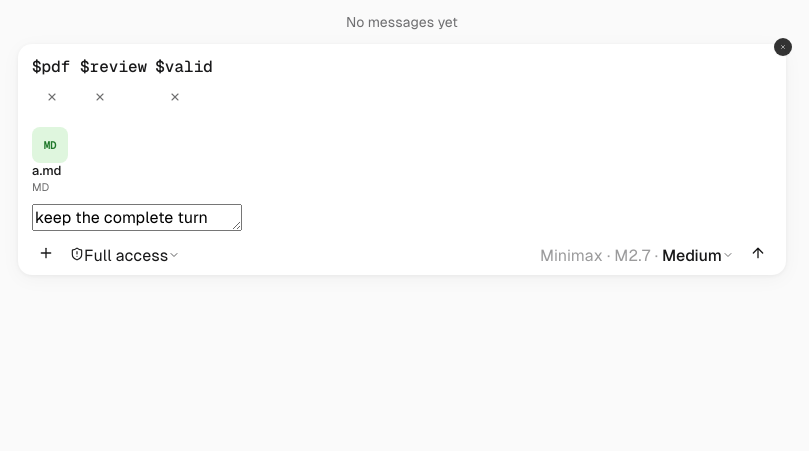
Test case: ChatView › repairs canonical Skill preconditions without clearing or rebinding the turn
Expected: the button "Minimax · M2.7 · Medium" is shown, [534,244,740,267]
Click the button named "send" at (758, 256), box [744,244,772,267]
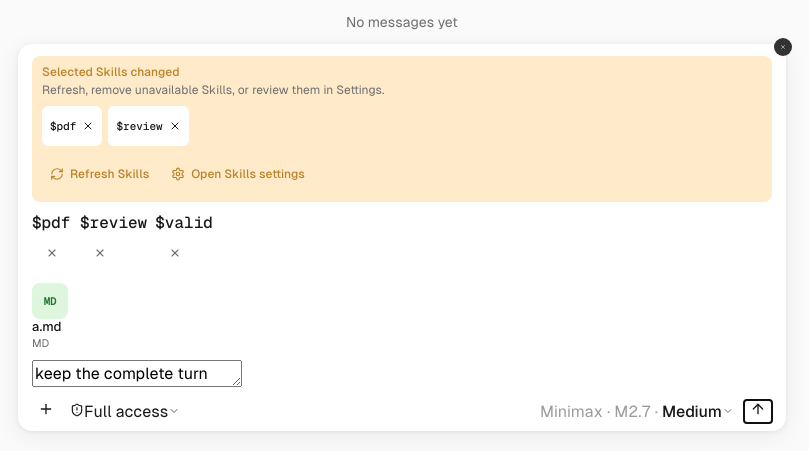
Expected: the message shows "Selected Skills changed", [42,65,180,79]
Click the button "Open Skills settings" at (238, 174), box [163,154,313,194]
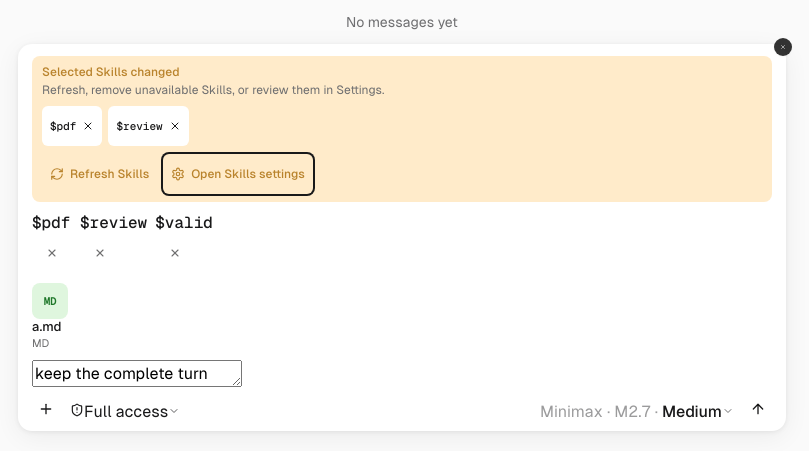
Click the button with aria-label "Remove unavailable Skill pdf" at (72, 126), box [42,106,102,146]
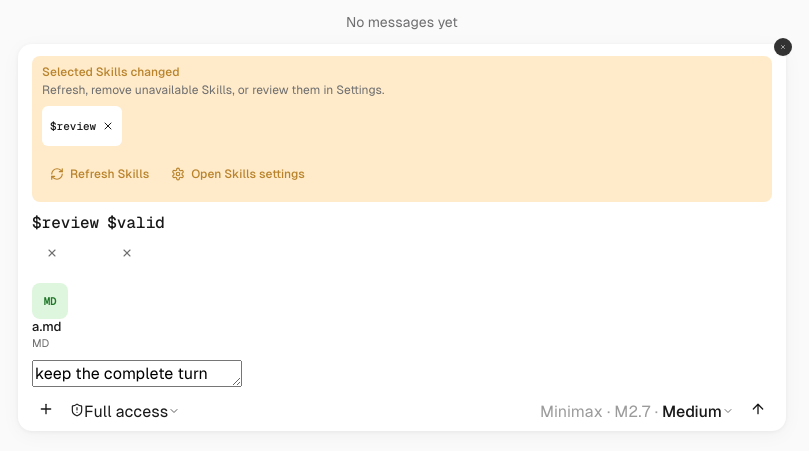
Click the button "Refresh Skills" at (100, 174), box [42,154,157,194]
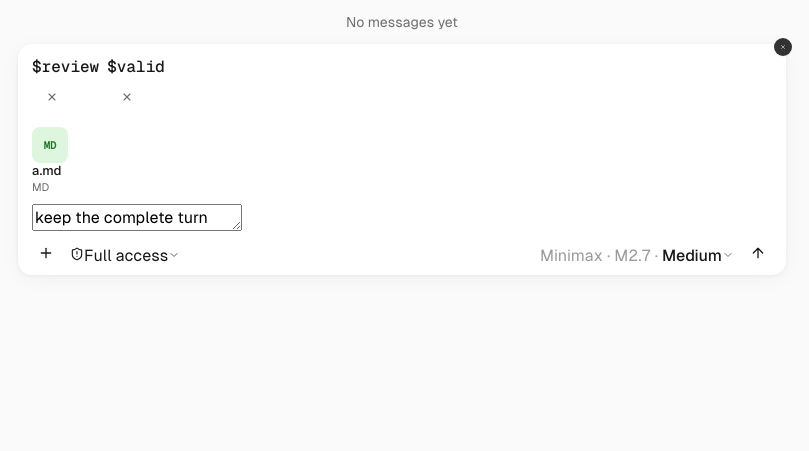
Expected: the message is gone
